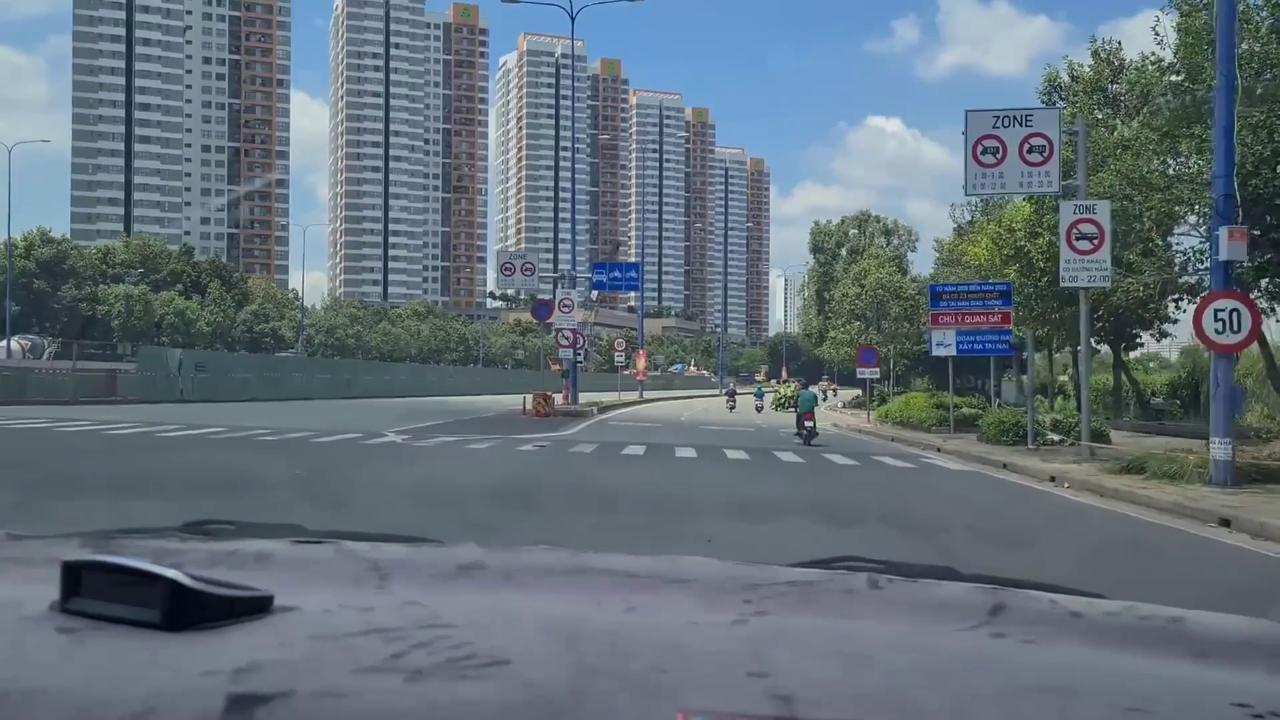Biển phụ: (856, 368, 881, 378), (614, 352, 625, 366)
Cấm cac phương tiện hoạt động trong khung giờ cố định: (962, 107, 1062, 195), (1058, 199, 1112, 288), (496, 250, 539, 290), (554, 288, 578, 328)
Cấm dừng - Cấm đỗ: (855, 344, 881, 369), (530, 298, 554, 322)
Cấm xe máy: (556, 328, 575, 348)
Giới hạn tốc độ 50Km/h: (1192, 286, 1263, 355)
Giới hạn tốc độ 80Km/h: (613, 337, 627, 352)
Khác: (925, 280, 1017, 356)
Làn đường cho từng xe: (591, 261, 641, 293)
